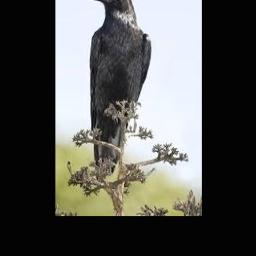Crow: (89, 0, 151, 183)
